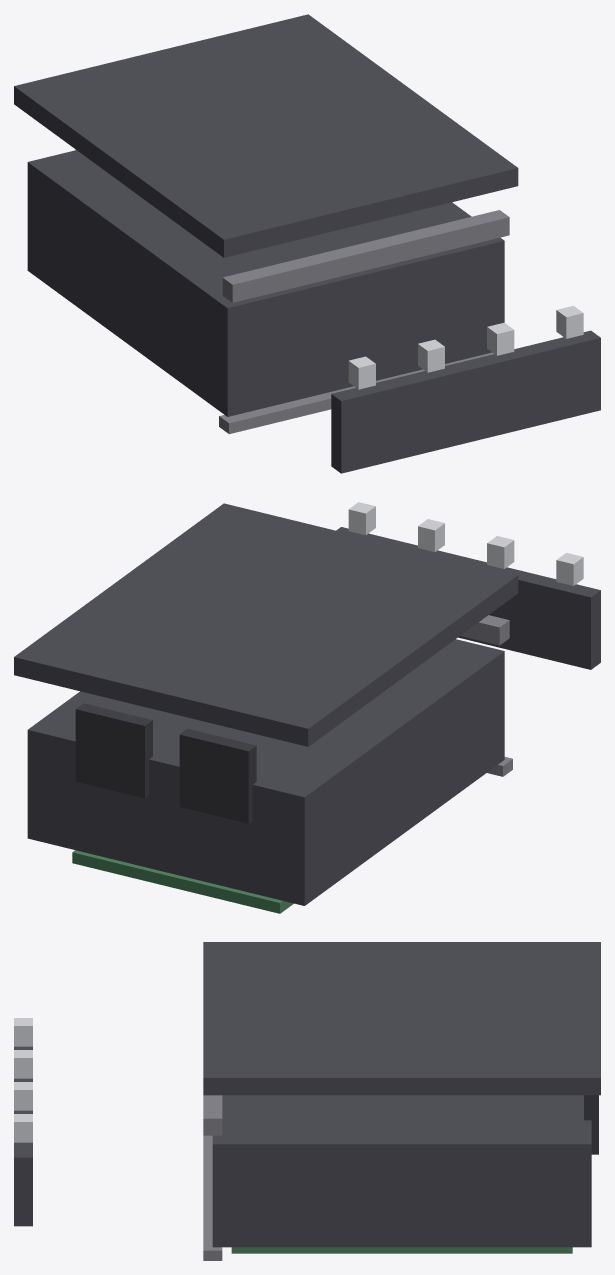
File: hard_drive.gltf
3 renders of one model, top to bottom at view 1: azimuth 30°, elevation 25°; view 2: azimuth 150°, elevation 25°; view 3: azimuth 270°, elevation 25°, orthographic. The views are drawn at different scales.
Parts seen in each view (by area): view 1: hard_drive; view 2: hard_drive; view 3: hard_drive.
Part boxes in pixels (x1,y1,x2,y2): hard_drive: (14,14,600,473); hard_drive: (14,502,600,913); hard_drive: (14,942,600,1260).
Size of the model in its own units: 0.085 by 0.057 by 0.155.
